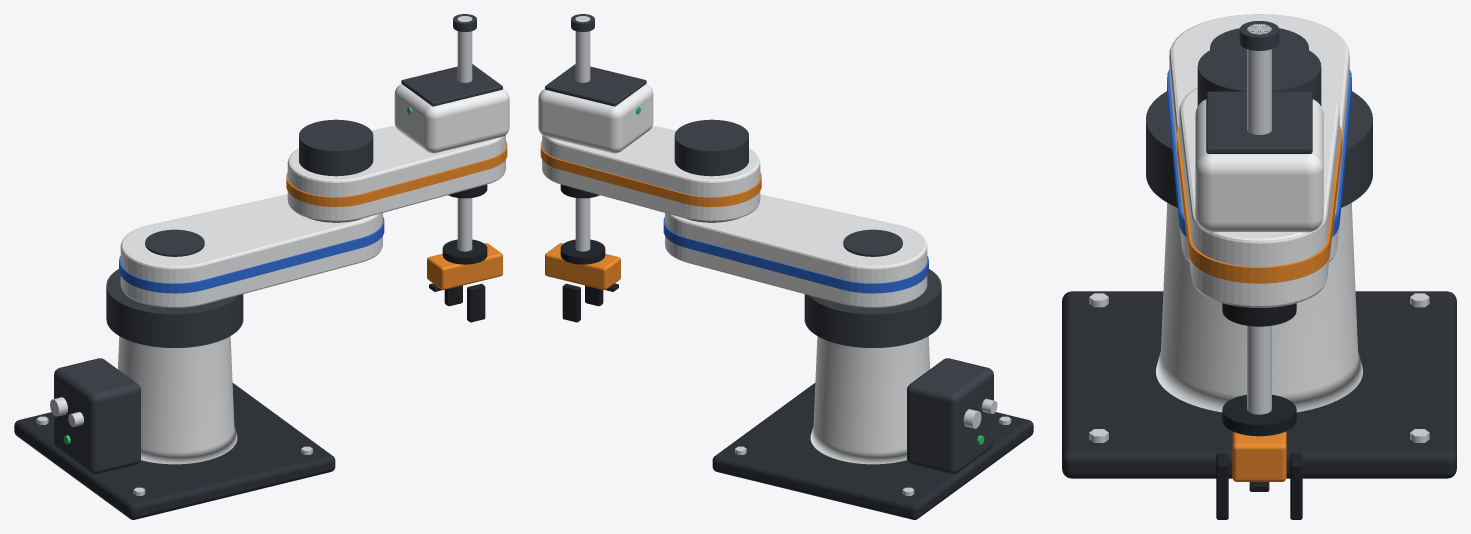
Rendered from scara_sceliph_flat.glb.
3 views of the same model, side by side, from view 1: azimuth 30°, elevation 25°; view 2: azimuth 150°, elevation 25°; view 3: azimuth 270°, elevation 25° (orthographic). The views are drawn at different scales.
Parts seen in each view (by area): view 1: link1__body, base__plate, base__column, link2__body, base__connector_box, base__j1_housing, link2__head, link2__j2_cover, link1__band, link2__band, link2__head_cap, quill__gripper_body (+4 smaller); view 2: link1__body, base__plate, base__column, link2__body, base__connector_box, base__j1_housing, link2__head, link2__j2_cover, link1__band, link2__band, link2__head_cap, quill__gripper_body (+4 smaller); view 3: base__plate, base__column, link2__body, link2__head, link1__body, link2__head_cap, base__j1_housing, link2__j2_cover, quill__shaft, link2__band, quill__gripper_body, quill__flange (+6 smaller).
Part boxes in pixels (left/top/right/bottom): link1__body: left=120, top=194, right=382, bottom=307; base__plate: left=14, top=383, right=335, bottom=519; base__column: left=118, top=336, right=237, bottom=464; link2__body: left=287, top=125, right=505, bottom=221; base__connector_box: left=54, top=358, right=140, bottom=474; base__j1_housing: left=106, top=269, right=243, bottom=347; link2__head: left=394, top=84, right=509, bottom=153; link2__j2_cover: left=299, top=119, right=373, bottom=176; link1__band: left=119, top=217, right=384, bottom=293; link2__band: left=286, top=141, right=507, bottom=206; link2__head_cap: left=401, top=64, right=502, bottom=106; quill__gripper_body: left=427, top=243, right=502, bottom=290; link1__body: left=665, top=194, right=927, bottom=307; base__plate: left=712, top=383, right=1033, bottom=519; base__column: left=810, top=336, right=929, bottom=464; link2__body: left=542, top=125, right=760, bottom=221; base__connector_box: left=907, top=358, right=993, bottom=474; base__j1_housing: left=804, top=269, right=941, bottom=347; link2__head: left=538, top=84, right=653, bottom=153; link2__j2_cover: left=674, top=119, right=748, bottom=176; link1__band: left=663, top=217, right=928, bottom=293; link2__band: left=540, top=141, right=761, bottom=206; link2__head_cap: left=545, top=64, right=646, bottom=106; quill__gripper_body: left=545, top=243, right=620, bottom=290; base__plate: left=1062, top=291, right=1456, bottom=478; base__column: left=1156, top=203, right=1362, bottom=412; link2__body: left=1179, top=87, right=1339, bottom=307; link2__head: left=1195, top=99, right=1323, bottom=232; link1__body: left=1169, top=14, right=1349, bottom=262; link2__head_cap: left=1206, top=91, right=1312, bottom=153; base__j1_housing: left=1146, top=91, right=1372, bottom=207; link2__j2_cover: left=1197, top=41, right=1321, bottom=105; quill__shaft: left=1247, top=24, right=1271, bottom=414; link2__band: left=1177, top=126, right=1341, bottom=283; quill__gripper_body: left=1232, top=431, right=1286, bottom=481; quill__flange: left=1222, top=394, right=1296, bottom=436.
Bounding box in the file's own units: 0.681 × 0.54 × 0.32.
